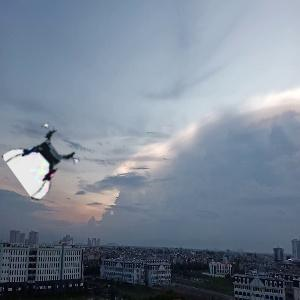drone: (12, 127, 78, 193)
